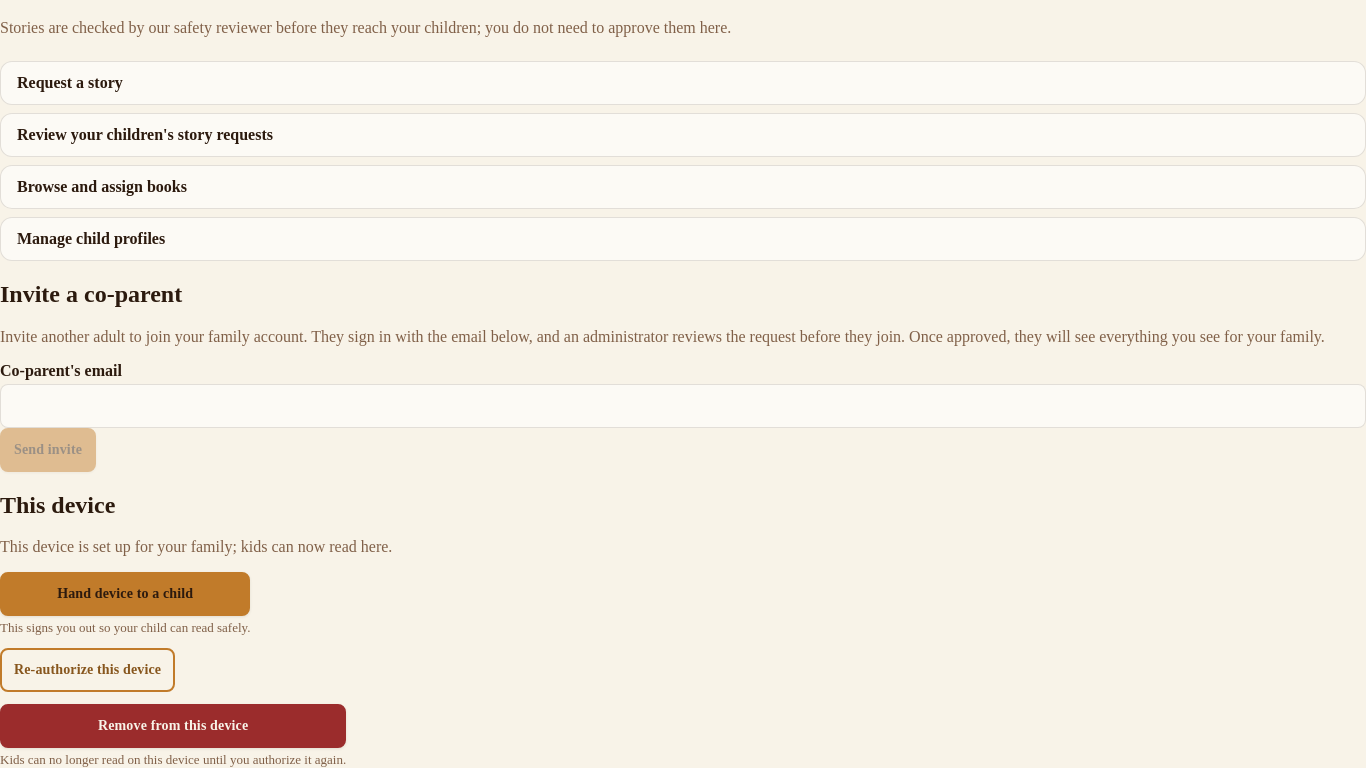
Scenario: ConsolePage device authorization (ADR-014 Phase 3) › does not revoke when the confirmation is cancelled
(page scrolled)
Click the button "Remove from this device".
click(173, 726)  # box [0, 704, 346, 748]
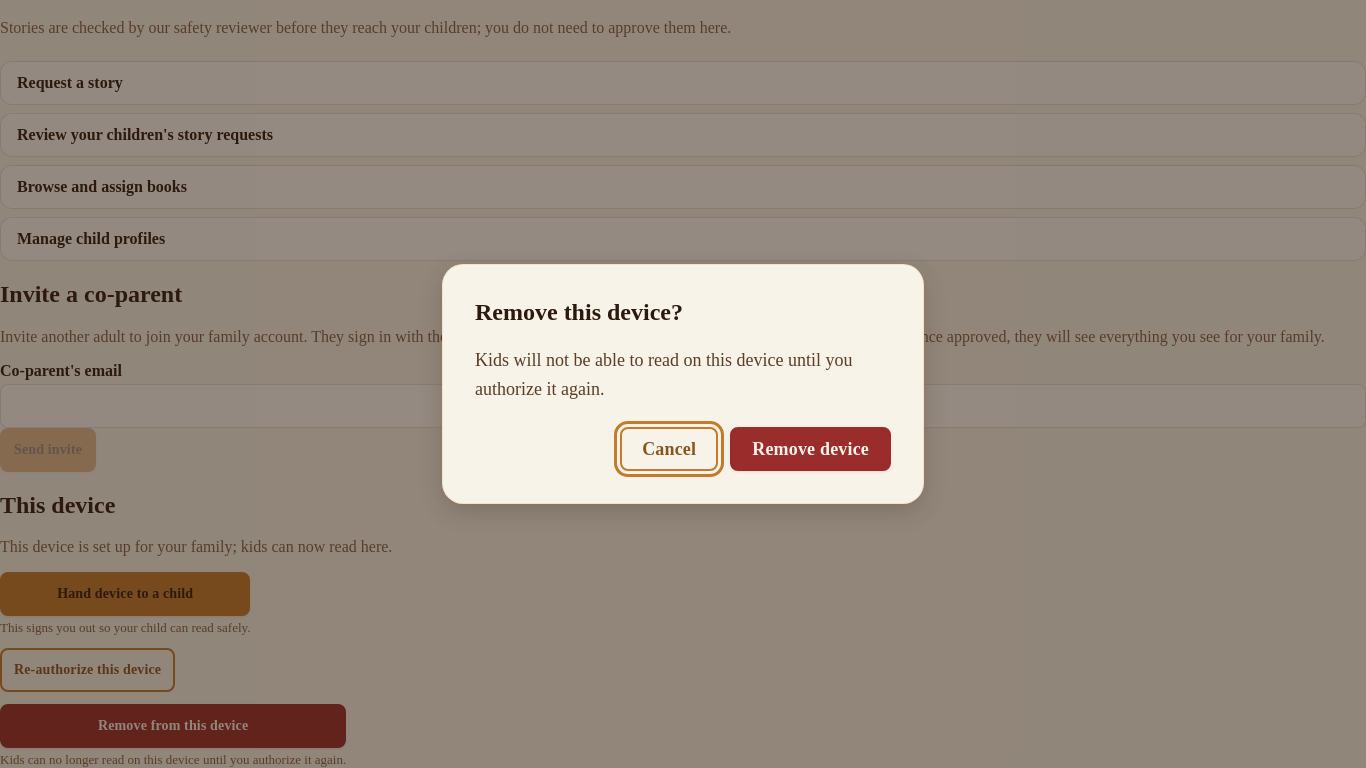
Click the button "Cancel".
click(669, 449)  # box [620, 427, 718, 471]
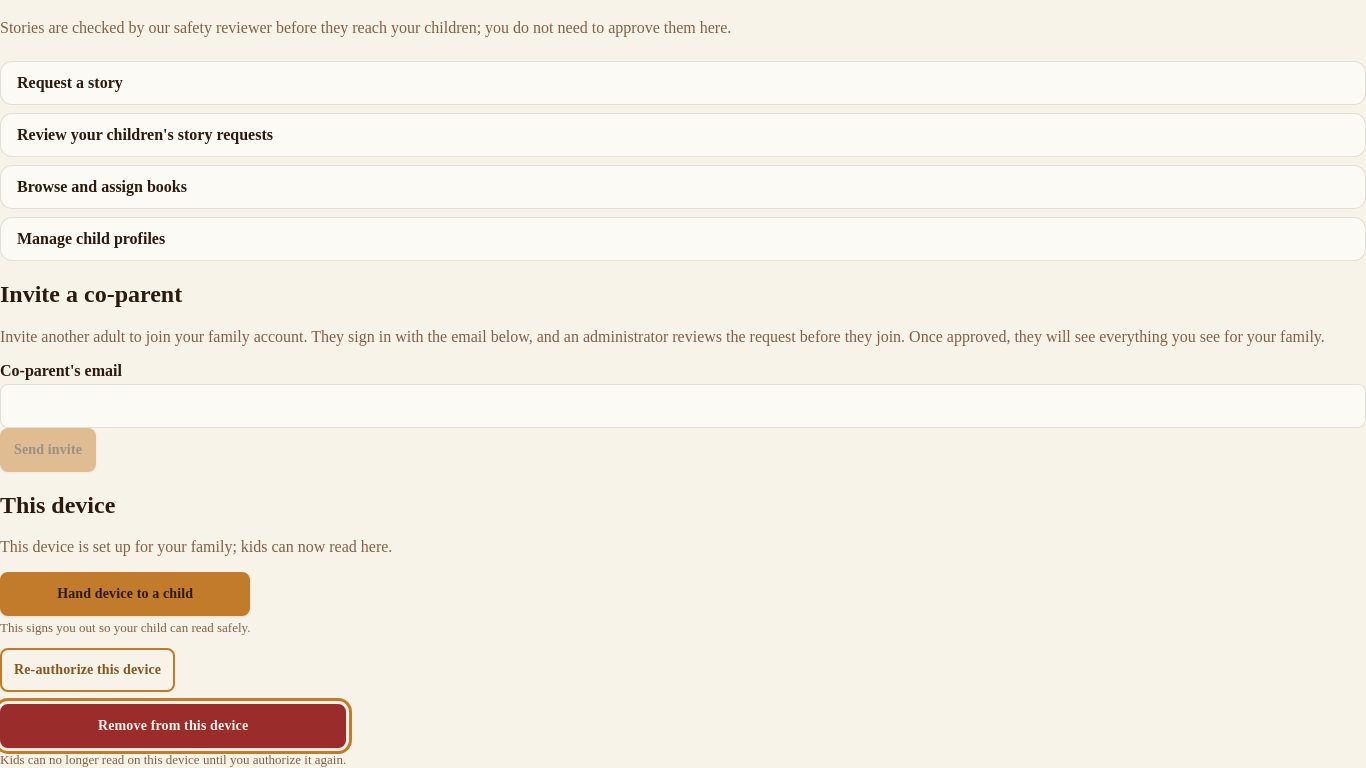
Expected: the button "Remove from this device" is shown, [0, 704, 346, 748]
Now the dialog is gone
